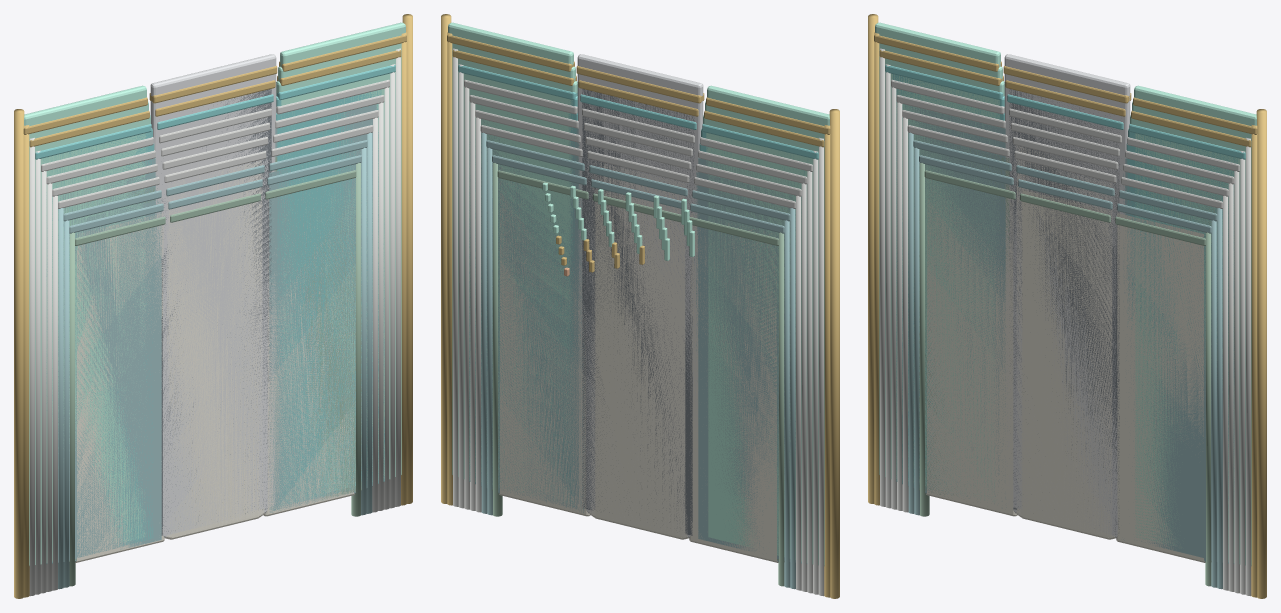
The model's file is Gear11.fbx.
The picture shows the model from 3 angles, left to right: view 1: azimuth 30°, elevation 25°; view 2: azimuth 150°, elevation 25°; view 3: azimuth 330°, elevation 25°; orthographic projection.
Visible parts, largest first — view 1: Gear11_V2_Blue, Gear11_V10_Platinum, Gear11_V10_Glow, Gear11_V1_Ivory, Gear11_V3_Linen, Gear11_V6_Aqua, Gear11_V5_Blue, Gear11_V10_Gold, Gear11_V6_Platinum, Gear11_V9_Gold, Gear11_V7_Chrome, Gear11_V6_Chrome (+15 smaller); view 2: Gear11_V1_Ivory, Gear11_V5_Blue, Gear11_V10_Glow, Gear11_V3_Linen, Gear11_V9_Glow, Gear11_V10_Platinum, Gear11_V4_Blue, Gear11_V8_Glow, Gear11_V10_Gold, Gear11_V2_Blue, Gear11_V9_Gold, Gear11_V7_Chrome (+13 smaller); view 3: Gear11_V1_Ivory, Gear11_V10_Glow, Gear11_V5_Blue, Gear11_V7_Graphite, Gear11_V3_Linen, Gear11_V10_Platinum, Gear11_V10_Gold, Gear11_V9_Gold, Gear11_V6_Platinum, Gear11_V7_Chrome, Gear11_V6_Chrome, Gear11_V5_Chrome (+17 smaller).
Boxes of the visible parts, <box> form: Gear11_V2_Blue: <box>63,147,366,587</box>; Gear11_V10_Platinum: <box>150,54,276,517</box>; Gear11_V10_Glow: <box>24,22,405,565</box>; Gear11_V1_Ivory: <box>75,180,354,562</box>; Gear11_V3_Linen: <box>166,160,262,538</box>; Gear11_V6_Aqua: <box>52,90,381,563</box>; Gear11_V5_Blue: <box>57,104,376,562</box>; Gear11_V10_Gold: <box>14,14,412,598</box>; Gear11_V6_Platinum: <box>163,117,267,536</box>; Gear11_V9_Gold: <box>23,32,406,597</box>; Gear11_V7_Chrome: <box>35,64,395,594</box>; Gear11_V6_Chrome: <box>41,80,389,593</box>; Gear11_V1_Ivory: <box>499,168,778,562</box>; Gear11_V5_Blue: <box>478,110,798,562</box>; Gear11_V10_Glow: <box>448,22,829,565</box>; Gear11_V3_Linen: <box>591,162,687,538</box>; Gear11_V9_Glow: <box>455,44,821,565</box>; Gear11_V10_Platinum: <box>577,54,703,531</box>; Gear11_V4_Blue: <box>486,141,793,562</box>; Gear11_V8_Glow: <box>460,59,815,564</box>; Gear11_V10_Gold: <box>441,14,839,598</box>; Gear11_V2_Blue: <box>487,147,790,587</box>; Gear11_V9_Gold: <box>447,32,830,597</box>; Gear11_V7_Chrome: <box>458,64,818,594</box>; Gear11_V1_Ivory: <box>926,180,1205,562</box>; Gear11_V10_Glow: <box>875,22,1256,565</box>; Gear11_V5_Blue: <box>905,105,1226,562</box>; Gear11_V7_Graphite: <box>1011,103,1119,534</box>; Gear11_V3_Linen: <box>1018,165,1114,538</box>; Gear11_V10_Platinum: <box>1004,54,1130,509</box>; Gear11_V10_Gold: <box>868,14,1266,598</box>; Gear11_V9_Gold: <box>874,32,1257,597</box>; Gear11_V6_Platinum: <box>1013,117,1117,536</box>; Gear11_V7_Chrome: <box>885,64,1245,594</box>; Gear11_V6_Chrome: <box>891,80,1239,593</box>; Gear11_V5_Chrome: <box>897,96,1234,591</box>.
Bounding box in the file's own units: 200 × 234 × 6.27.
